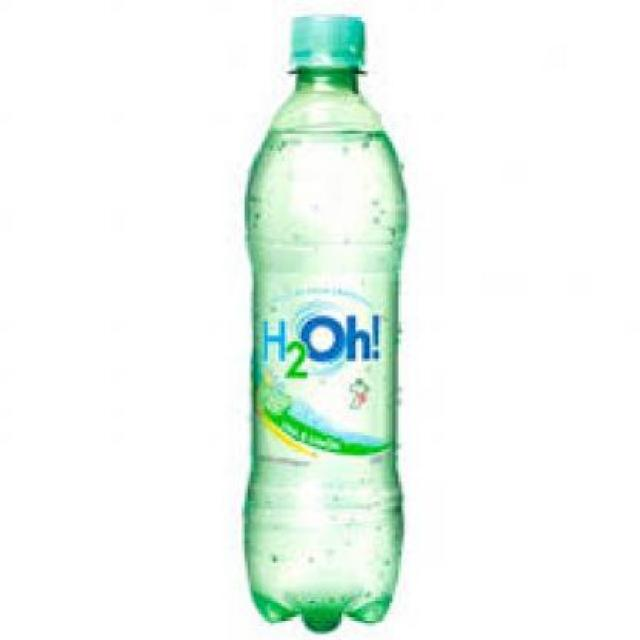plastic_bottle: (242, 16, 409, 634)
